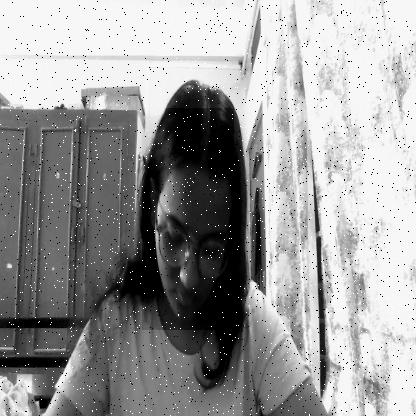Distracted: (142, 108, 234, 330)
